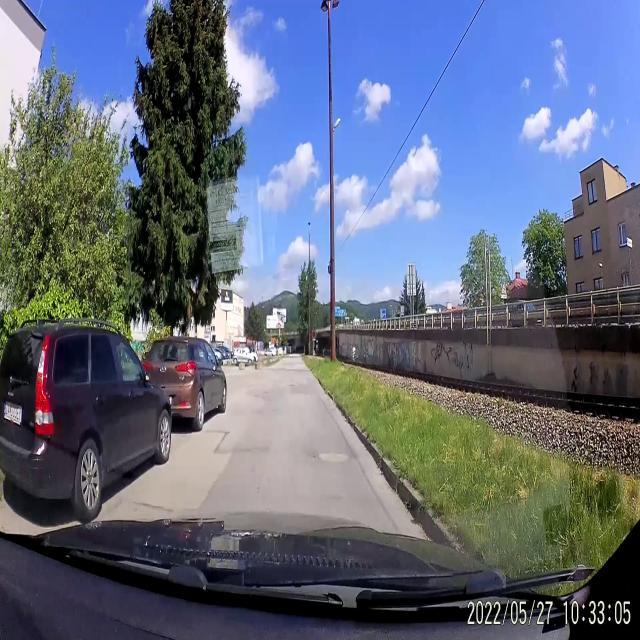Manhole: (315, 446, 352, 468)
Pothole: (262, 390, 270, 394), (288, 383, 296, 386)
